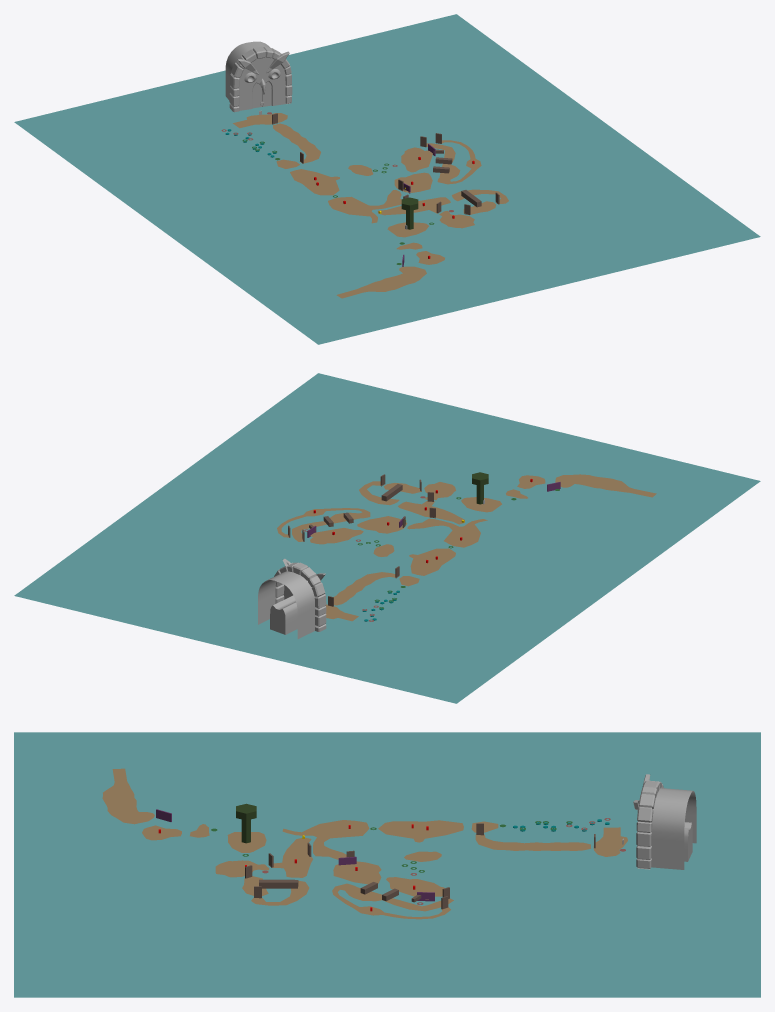
The model's file is blocking_level_2_waterpath_v1.fbx.
3 renders of one model, top to bottom at view 1: azimuth 30°, elevation 25°; view 2: azimuth 150°, elevation 25°; view 3: azimuth 270°, elevation 25°, orthographic. The views are drawn at different scales.
Visible parts, largest first — view 1: water, owl_door_face, owl_door_rocks_lp, island_1, island_18, island_11, island_14, island_19, island_12; view 2: water, owl_door_face, owl_door_rocks_lp, island_18, island_1, island_11, island_14, island_19, island_15, island_12, island_10; view 3: water, owl_door_face, owl_door_rocks_lp, island_1, island_18, island_11, island_14, island_19, island_15, island_10, island_12, island_17 (+4 smaller).
Boxes of the visible parts, x1=… form: water: x1=14, y1=14, x2=760, y2=344; owl_door_face: x1=225, y1=41, x2=289, y2=110; owl_door_rocks_lp: x1=229, y1=46, x2=292, y2=112; island_1: x1=336, y1=266, x2=426, y2=298; island_18: x1=328, y1=190, x2=401, y2=223; island_11: x1=426, y1=140, x2=481, y2=184; island_14: x1=290, y1=169, x2=339, y2=195; island_19: x1=273, y1=123, x2=320, y2=163; island_12: x1=401, y1=147, x2=432, y2=172; water: x1=14, y1=373, x2=760, y2=703; owl_door_face: x1=258, y1=558, x2=325, y2=638; owl_door_rocks_lp: x1=274, y1=562, x2=326, y2=631; island_18: x1=407, y1=518, x2=487, y2=547; island_1: x1=555, y1=474, x2=656, y2=497; island_11: x1=277, y1=508, x2=370, y2=541; island_14: x1=409, y1=548, x2=455, y2=575; island_19: x1=333, y1=572, x2=399, y2=605; island_15: x1=398, y1=501, x2=464, y2=524; island_12: x1=310, y1=528, x2=363, y2=544; island_10: x1=357, y1=516, x2=407, y2=533; water: x1=14, y1=732, x2=760, y2=997; owl_door_face: x1=633, y1=774, x2=696, y2=869; owl_door_rocks_lp: x1=636, y1=780, x2=663, y2=869; island_1: x1=102, y1=768, x2=154, y2=824; island_18: x1=282, y1=820, x2=369, y2=859; island_11: x1=332, y1=883, x2=453, y2=919; island_14: x1=378, y1=820, x2=463, y2=842; island_19: x1=475, y1=834, x2=590, y2=850; island_15: x1=272, y1=837, x2=312, y2=877; island_10: x1=333, y1=861, x2=381, y2=884; island_12: x1=386, y1=877, x2=444, y2=899; island_17: x1=593, y1=827, x2=627, y2=856.
Bounding box in the file's own units: 81.6 × 12.04 × 97.19.
